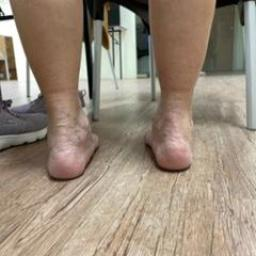Back View -Both Feet-: (24, 67, 214, 195)
